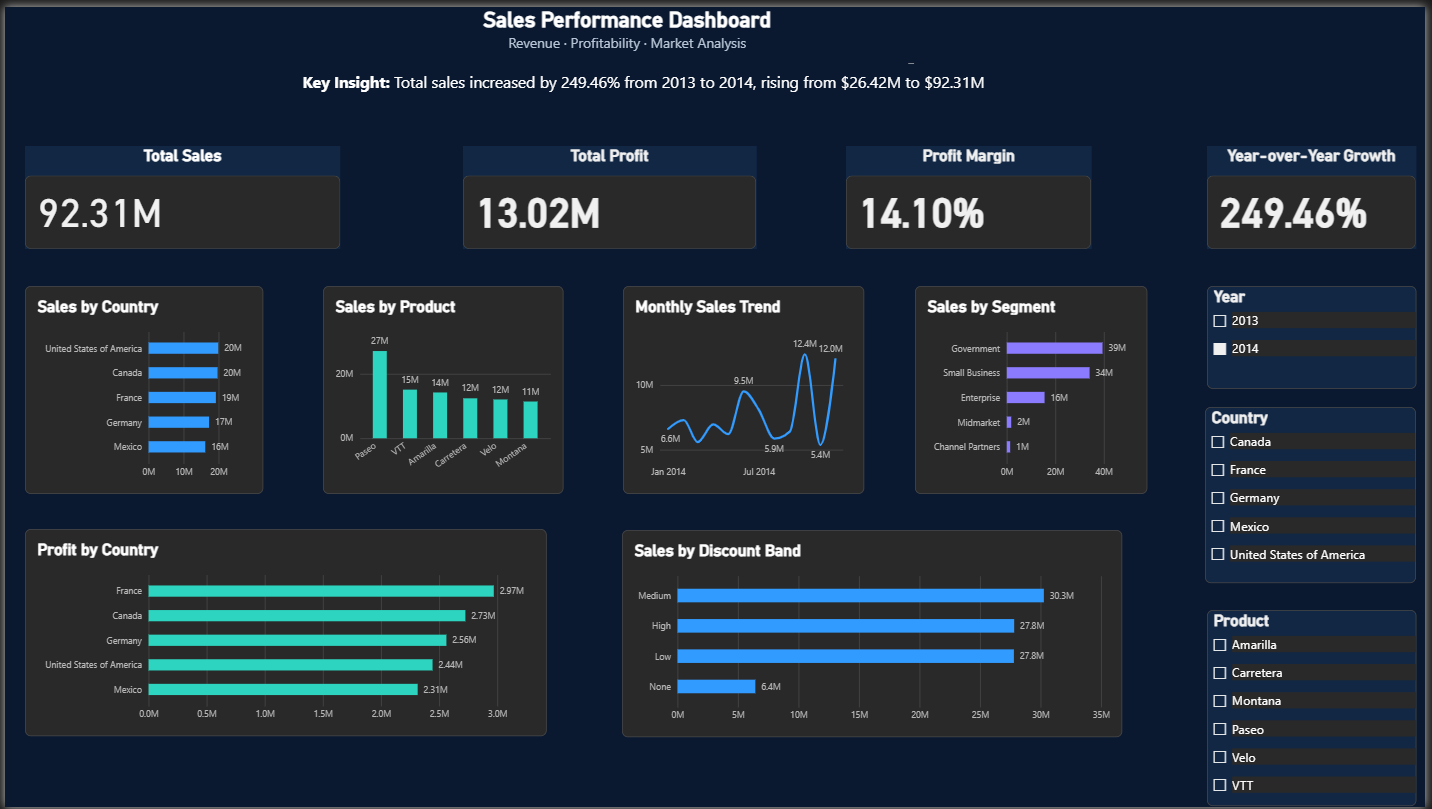

What the dashboard file says about the page in this screenshot:
{"tool":"powerbi","page":{"name":"Page 1","canvas":[1920,1080],"ordinal":0},"visuals":[{"type":"cardVisual","title":"Total Sales","fields":{"Data":["financials.Total Sales"]},"box":[27,187.8,426,139.4],"z":0},{"type":"cardVisual","title":"Total Profit","fields":{"Data":["financials.Total Profit"]},"box":[618.4,188.5,396.6,139.4],"z":1000},{"type":"cardVisual","title":"Profit Margin","fields":{"Data":["financials.Profit Margin"]},"box":[1136.7,188.5,331.8,139.4],"z":2000},{"type":"clusteredBarChart","title":"Sales by Country","fields":{"Category":["financials.Country"],"Y":["Sum(financials.Sales)"]},"box":[27,377,322.2,280.8],"z":3000},{"type":"columnChart","title":"Sales by Product","fields":{"Category":["financials.Product"],"Y":["Sum(financials.Sales)"]},"box":[429.7,377,324.7,280.8],"z":4000},{"type":"lineChart","title":"Monthly Sales Trend","fields":{"Category":["financials.Date.Variation.Date Hierarchy.Year"],"Y":["Sum(financials.Sales)"]},"box":[834.5,376.5,326,280.8],"z":5000},{"type":"slicer","fields":{"Values":["financials.Country"]},"box":[1621.6,540.5,284.7,237.5],"z":6000},{"type":"slicer","fields":{"Values":["financials.Product"]},"box":[1624.3,814.9,282.7,265],"z":7000},{"type":"clusteredBarChart","title":"Sales by Segment","fields":{"Category":["financials.Segment"],"Y":["Sum(financials.Sales)"]},"box":[1229.1,376.5,314.4,280.8],"z":8000},{"type":"clusteredBarChart","title":"Profit by Country","fields":{"Category":["financials.Country"],"Y":["Sum(financials.Profit)"]},"box":[27,705.4,705.5,280.1],"z":9000},{"type":"clusteredBarChart","title":"Sales by Discount Band","fields":{"Category":["financials.Discount Band"],"Y":["Sum(financials.Sales)"]},"box":[833.6,707.2,676.4,280.1],"z":10000},{"type":"textbox","title":"Sales Performance Dashboard","box":[453.3,0,776.1,76.6],"z":11000},{"type":"cardVisual","title":"Year-over-Year Growth","fields":{"Data":["financials.Sales Growth %"]},"box":[1624.3,187.8,282.7,139.4],"z":12000},{"type":"slicer","fields":{"Values":["DateTable.Year"]},"box":[1624.3,377,282.7,139.4],"z":13000},{"type":"textbox","box":[390.5,86.5,944.4,33.9],"z":14000}]}

Visuals, with their boxes in screenshot pixels (x1, y1, x2, y2), scaled from the page's 1920x1080 canvas onto the 1432x809 screenshot:
"Total Sales" cardVisual: (x1=20, y1=141, x2=338, y2=245)
"Total Profit" cardVisual: (x1=461, y1=141, x2=757, y2=246)
"Profit Margin" cardVisual: (x1=848, y1=141, x2=1095, y2=246)
"Sales by Country" clusteredBarChart: (x1=20, y1=282, x2=260, y2=493)
"Sales by Product" columnChart: (x1=320, y1=282, x2=563, y2=493)
"Monthly Sales Trend" lineChart: (x1=622, y1=282, x2=866, y2=492)
slicer - financials.Country: (x1=1209, y1=405, x2=1422, y2=583)
slicer - financials.Product: (x1=1211, y1=610, x2=1422, y2=808)
"Sales by Segment" clusteredBarChart: (x1=917, y1=282, x2=1151, y2=492)
"Profit by Country" clusteredBarChart: (x1=20, y1=528, x2=546, y2=738)
"Sales by Discount Band" clusteredBarChart: (x1=622, y1=530, x2=1126, y2=740)
"Sales Performance Dashboard" textbox: (x1=338, y1=0, x2=917, y2=57)
"Year-over-Year Growth" cardVisual: (x1=1211, y1=141, x2=1422, y2=245)
slicer - DateTable.Year: (x1=1211, y1=282, x2=1422, y2=387)
textbox: (x1=291, y1=65, x2=996, y2=90)
